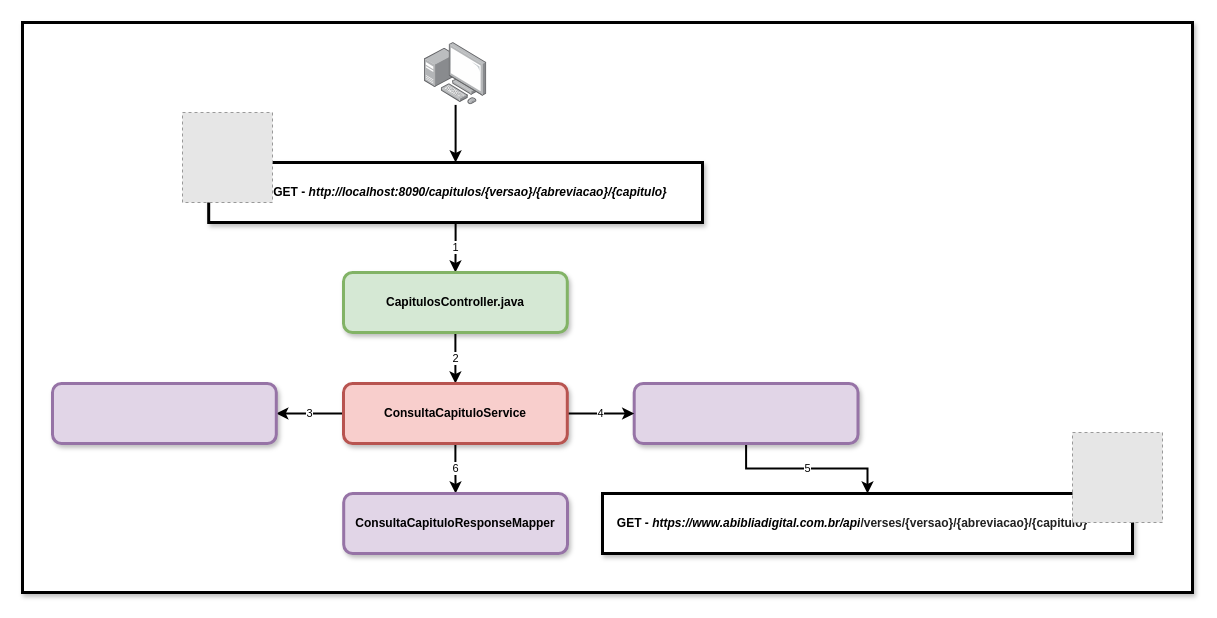
Some shapes in this 1217 by 618 pixel diagram are drawn without their labels. Grey dashed boxes stand in for pictures. The shapes that lost their labels are listed below. From the top down, each one's centre as x and y in pixels, then its label:
At pixel 164 415: "ConsultaCapituloValidator".
At pixel 746 415: "BibliaDigitalRestIntegration".
